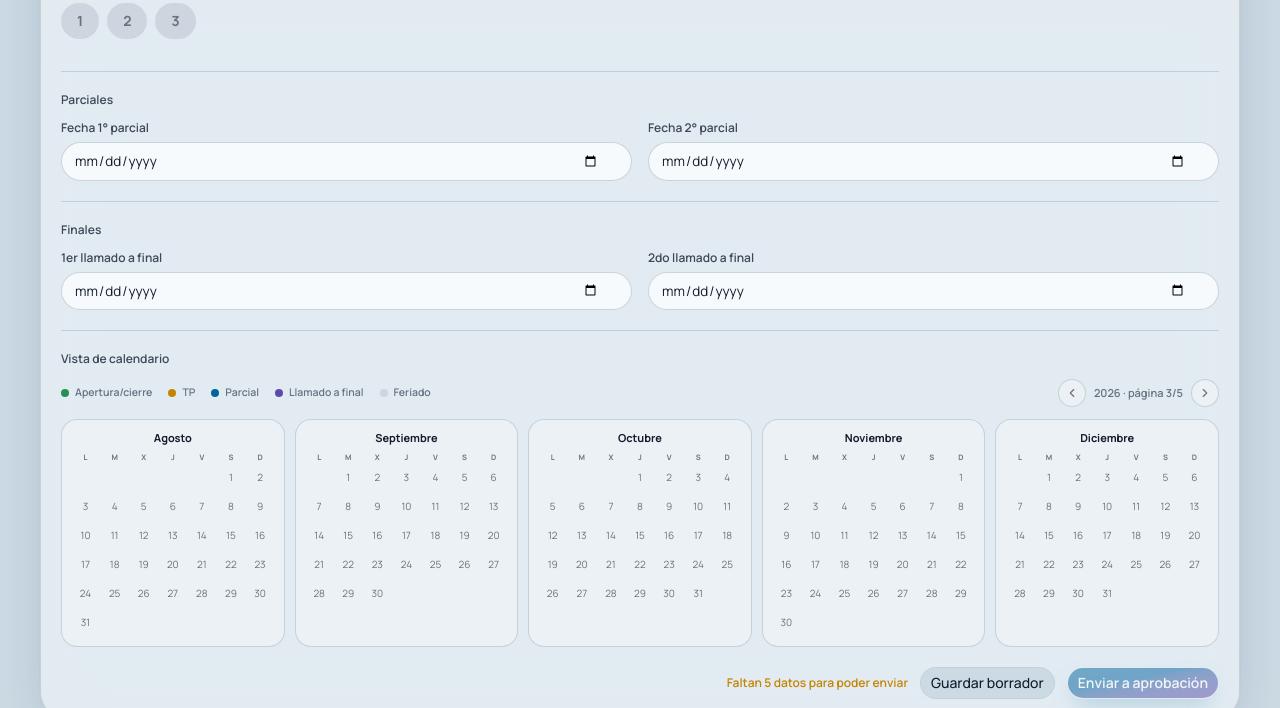
DocenteComisionDetalle › un error de fecha del backend se explica con su motivo
This screenshot has width=1280, height=708.
(page scrolled)
What coordinates should you click on to do the following:
click the button "Guardar borrador"
I would click on:
 (987, 683)
Its box is [920,667,1055,699].
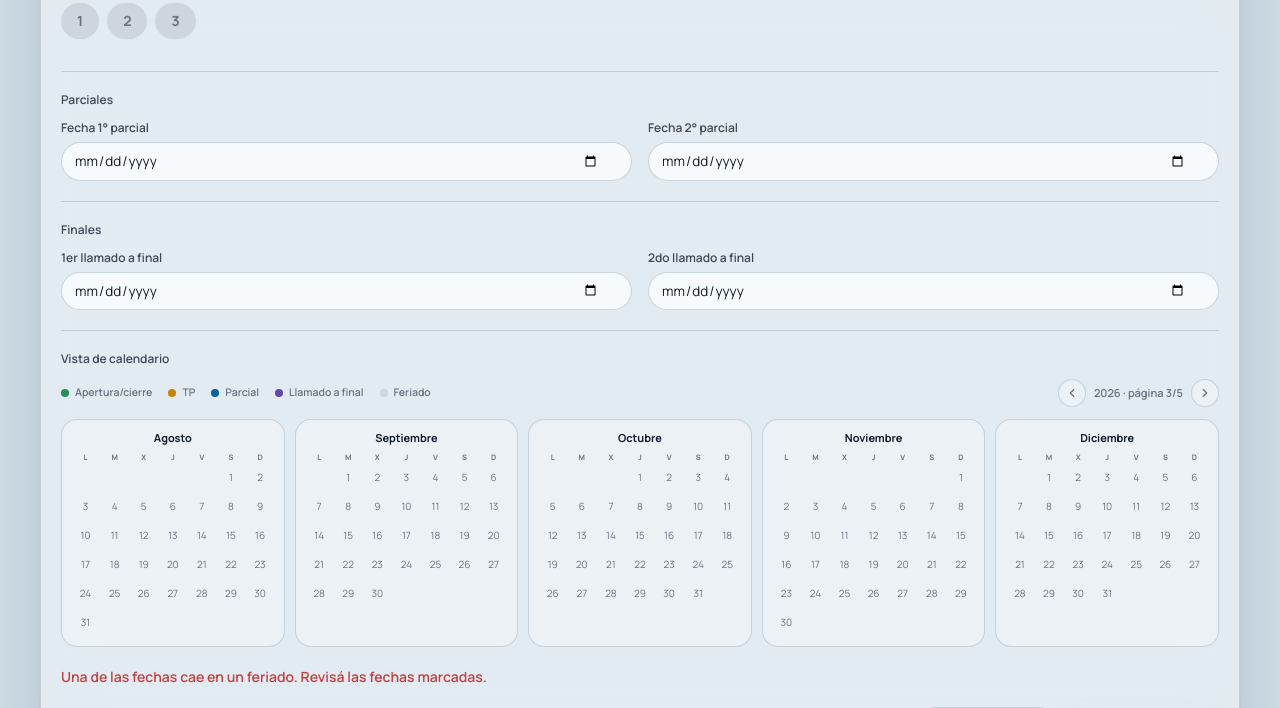
Check: the text "Una de las fechas cae en un feriado" is shown, box [61,667,487,686]
